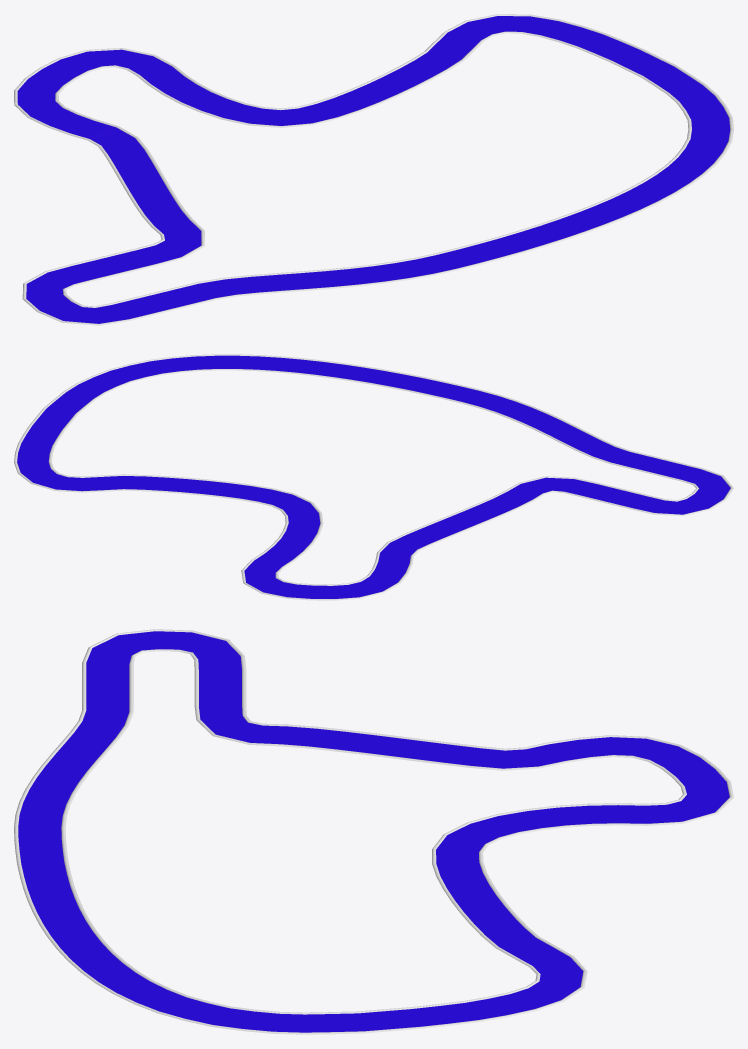
Rendered from RaceTrack.fbx.
The picture shows the model from 3 angles, top to bottom: view 1: azimuth 30°, elevation 25°; view 2: azimuth 150°, elevation 25°; view 3: azimuth 270°, elevation 25°; orthographic projection. The views are drawn at different scales.
Parts seen in each view (by area): view 1: RaceTrack; view 2: RaceTrack; view 3: RaceTrack.
Part boxes in pixels (bbox=[...]): RaceTrack: bbox=[14, 14, 733, 325]; RaceTrack: bbox=[14, 354, 733, 600]; RaceTrack: bbox=[14, 629, 733, 1034].
Bounding box in the file's own units: 1702 × 2.73 × 1278.
